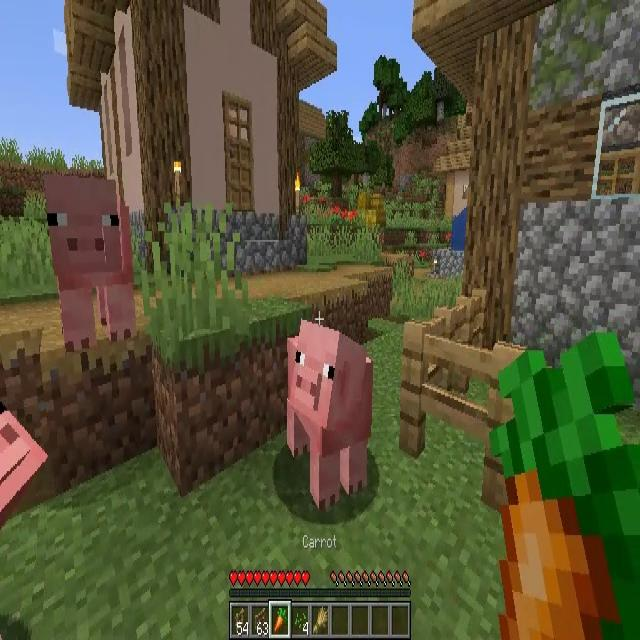pig: (287, 319, 373, 506), (44, 176, 138, 338)
